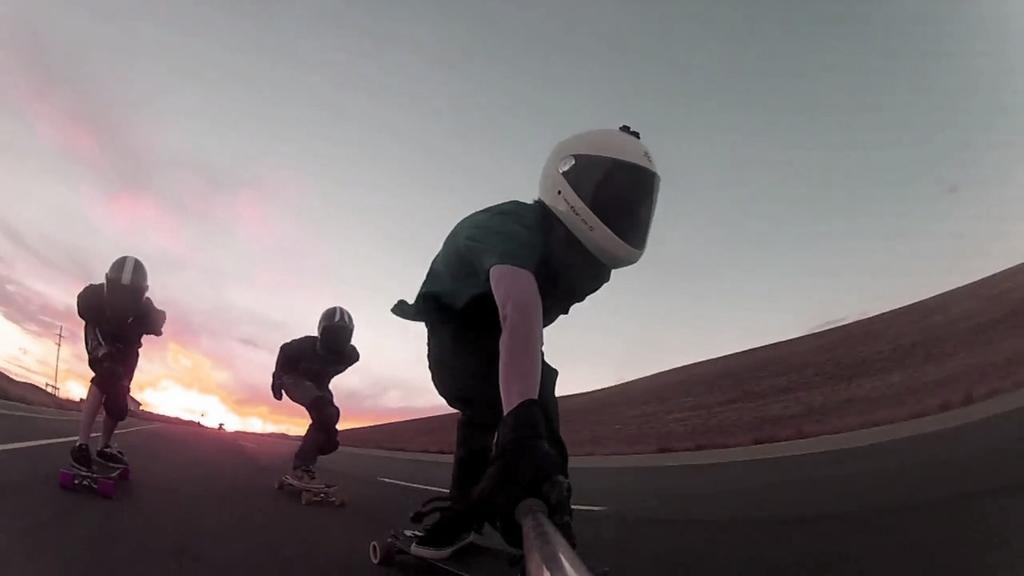helmet: (538, 128, 662, 270), (103, 255, 149, 326), (317, 305, 355, 362)
